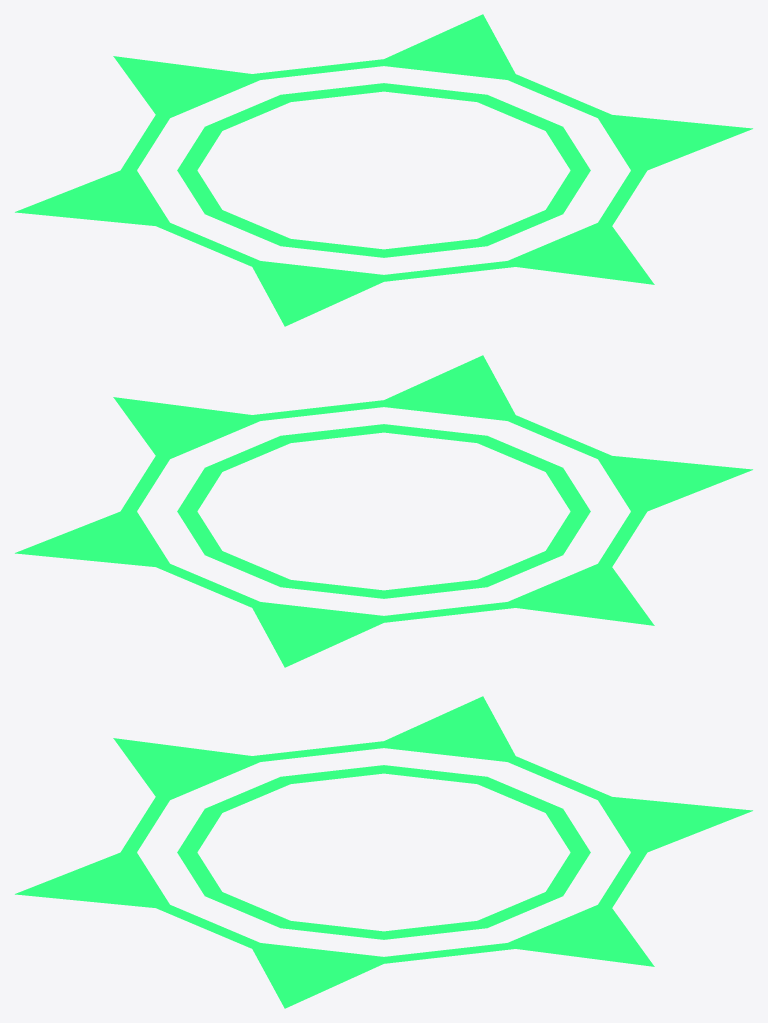
Rendered from doorbell icon.glb.
3 views of the same model, one above another, from view 1: azimuth 30°, elevation 25°; view 2: azimuth 150°, elevation 25°; view 3: azimuth 270°, elevation 25° (orthographic).
Visible parts, largest first — view 1: bell icon; view 2: bell icon; view 3: bell icon.
Part boxes in pixels (x1,y1,x2,y2): bell icon: (15, 14, 752, 326); bell icon: (15, 355, 752, 667); bell icon: (15, 696, 752, 1008).
Bounding box in the file's own units: 0.6469 × 1.05e-07 × 0.6469.
